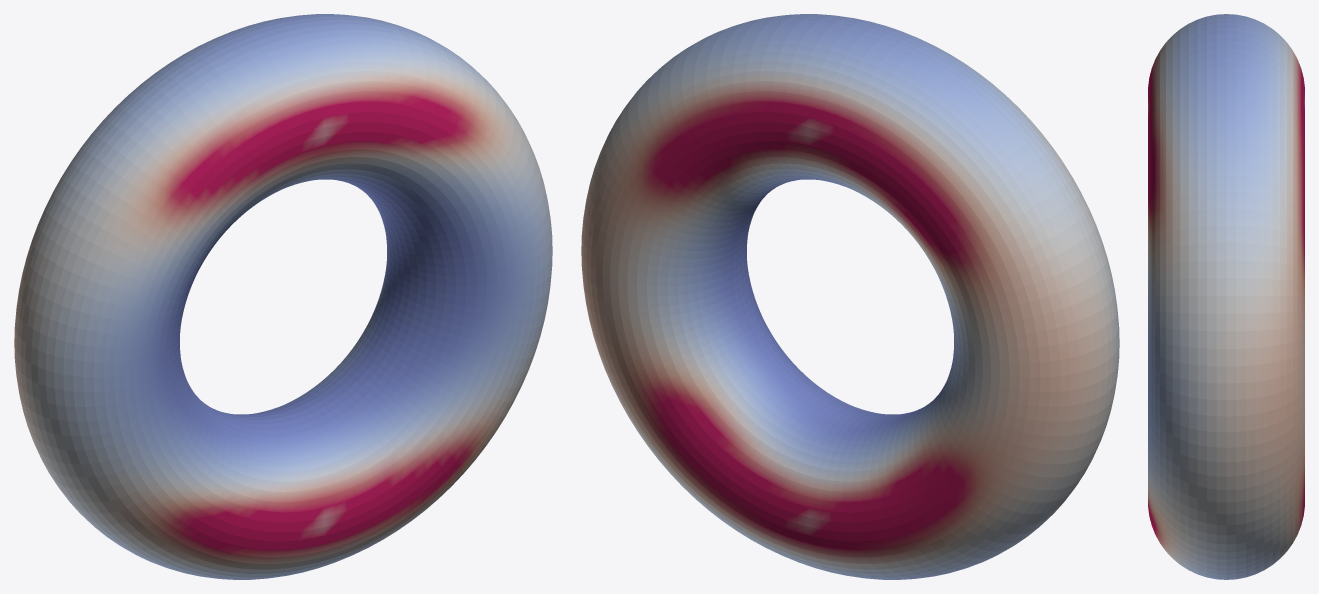
The picture shows the model from 3 angles, left to right: view 1: azimuth 30°, elevation 25°; view 2: azimuth 150°, elevation 25°; view 3: azimuth 270°, elevation 25°; orthographic projection. The views are drawn at different scales.
Visible parts, largest first — view 1: world; view 2: world; view 3: world.
Part boxes in pixels (x1,y1,x2,y2): world: (14,14,552,579); world: (581,14,1119,579); world: (1148,14,1304,579).
Bounding box in the file's own units: 20 × 20 × 5.54.
